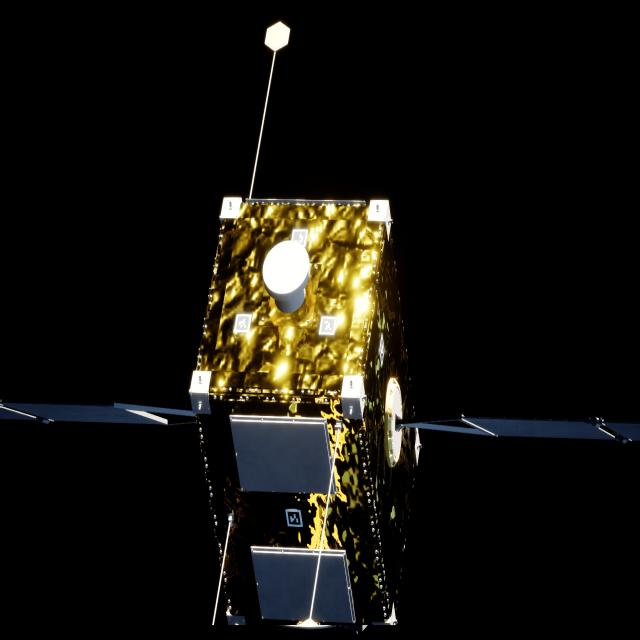satellite: (0, 199, 640, 630)
